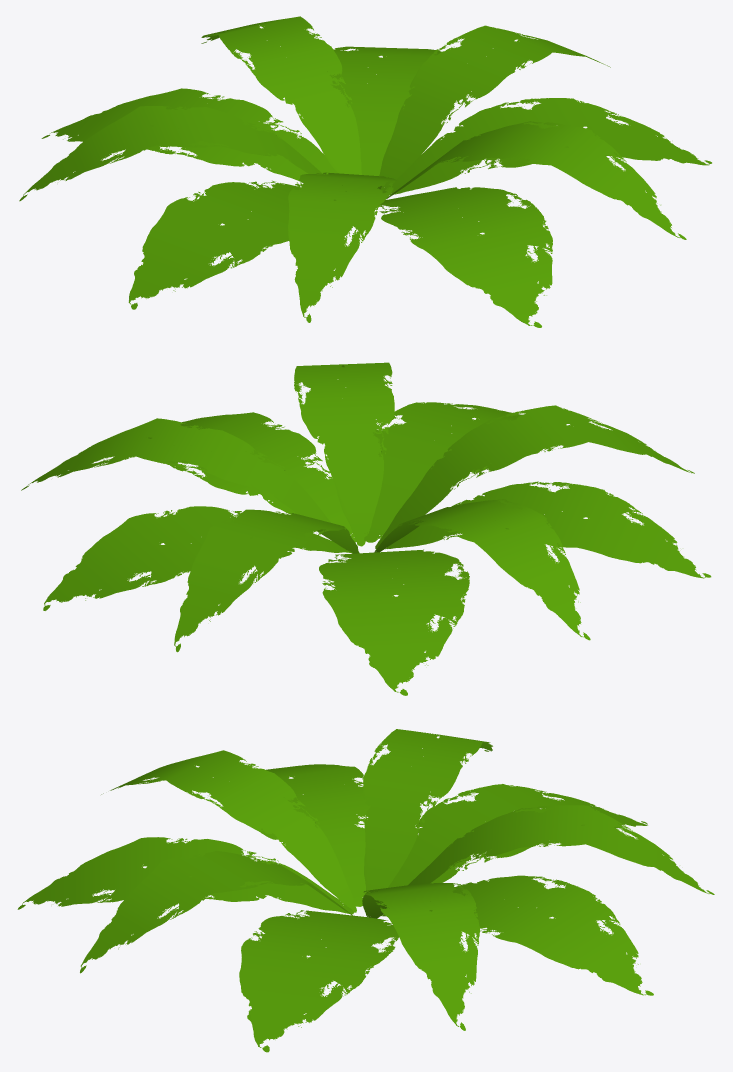
Rendered from bush.fbx.
The picture shows the model from 3 angles, top to bottom: view 1: azimuth 30°, elevation 25°; view 2: azimuth 150°, elevation 25°; view 3: azimuth 270°, elevation 25°; orthographic projection.
Parts seen in each view (by area): view 1: bush; view 2: bush; view 3: bush.
Boxes of the visible parts, x1,y1,x2,y2 form: bush: (19,16,711,327); bush: (21,362,711,695); bush: (17,729,714,1052).
Bounding box in the file's own units: 812 × 123 × 838.
